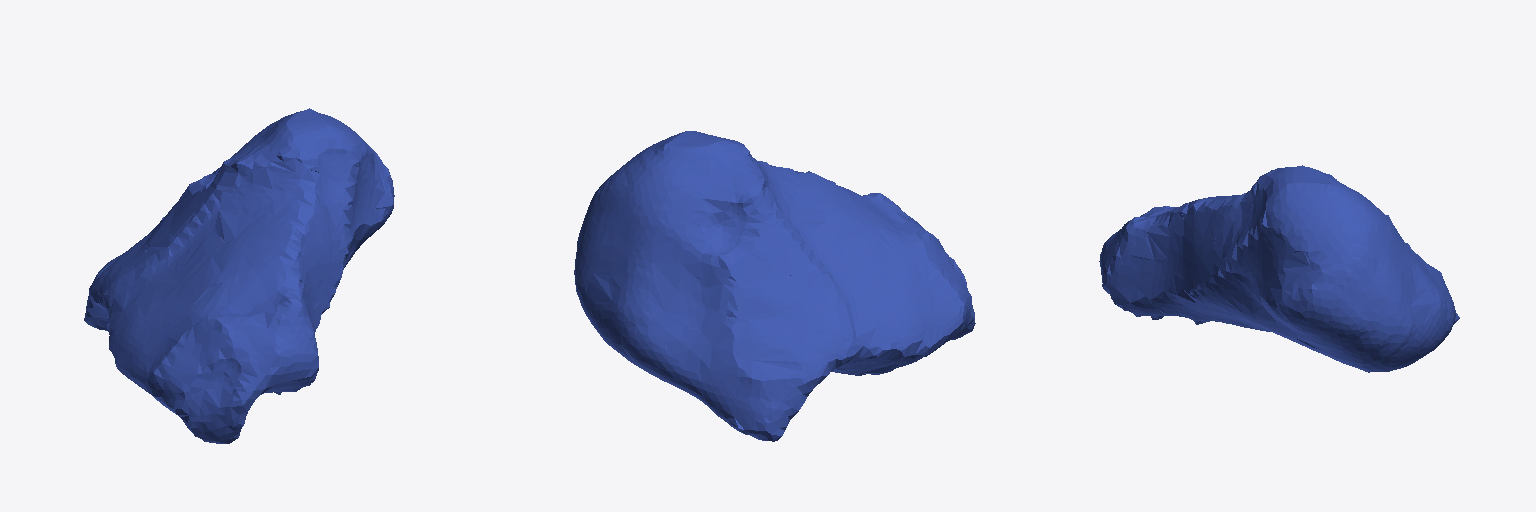
Rendered from Model_10298_LH__Ventral_anterior_thalamic_nucleus_(VA).obj.
3 renders of one model, left to right at view 1: azimuth 30°, elevation 25°; view 2: azimuth 150°, elevation 25°; view 3: azimuth 270°, elevation 25°, orthographic.
Size of the model in its own units: 3.6 by 2.47 by 3.66.